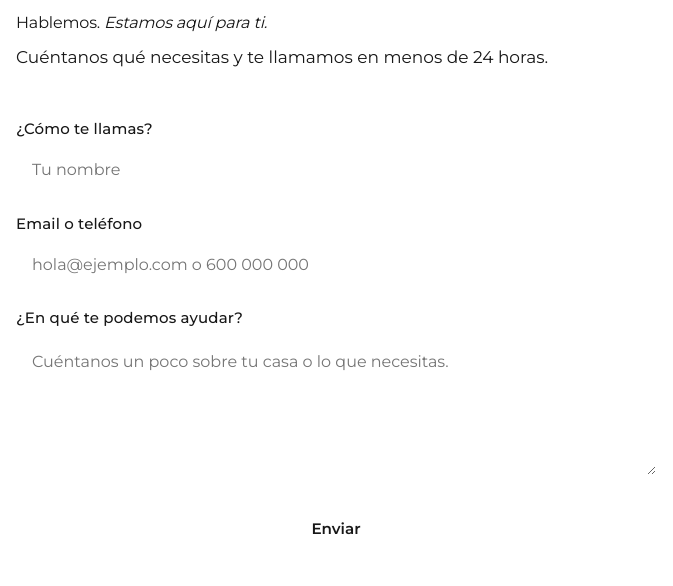
Test: V4 Contacto › rejects a contact value that is neither email nor phone
Type "Cliente" into the field labelled "¿Cómo te llamas?".
click(336, 170); type("Cliente")  # box [16,146,656,194]
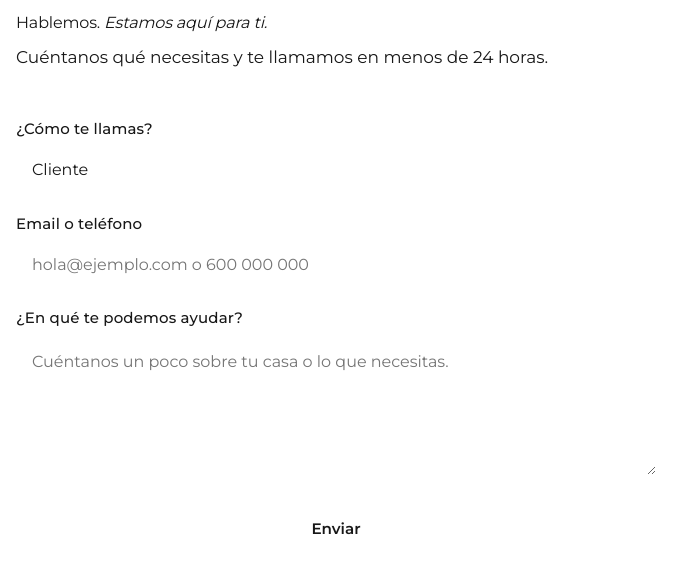
Type "abc" into the field labelled "Email o teléfono".
click(336, 264); type("abc")  # box [16,241,656,288]
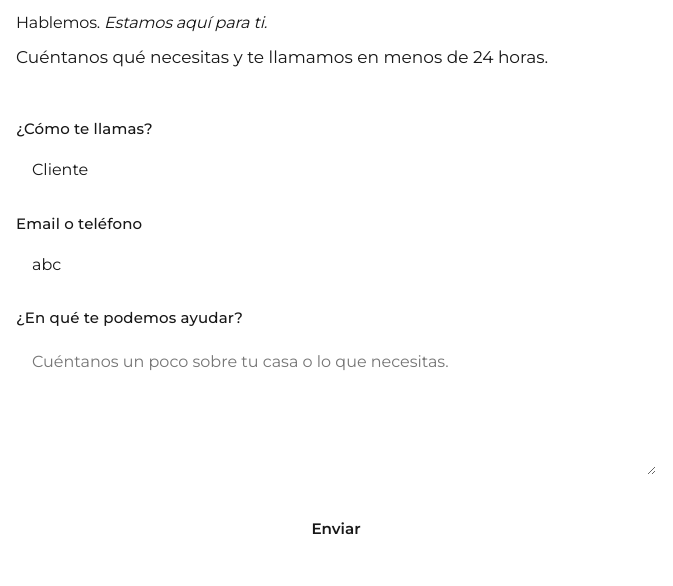
Type "Hola" into the text box labelled "¿En qué te podemos ayudar?".
click(336, 405); type("Hola")  # box [16,335,656,475]
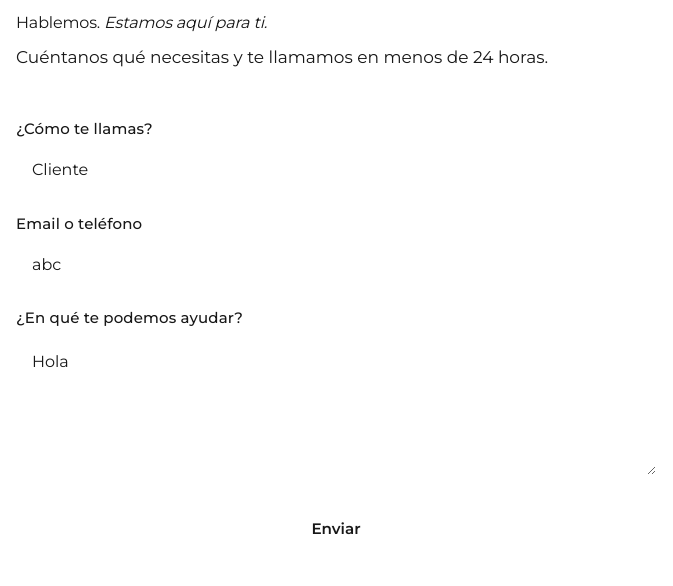
Click the submit button.
click(336, 528)  # box [16,503,656,553]
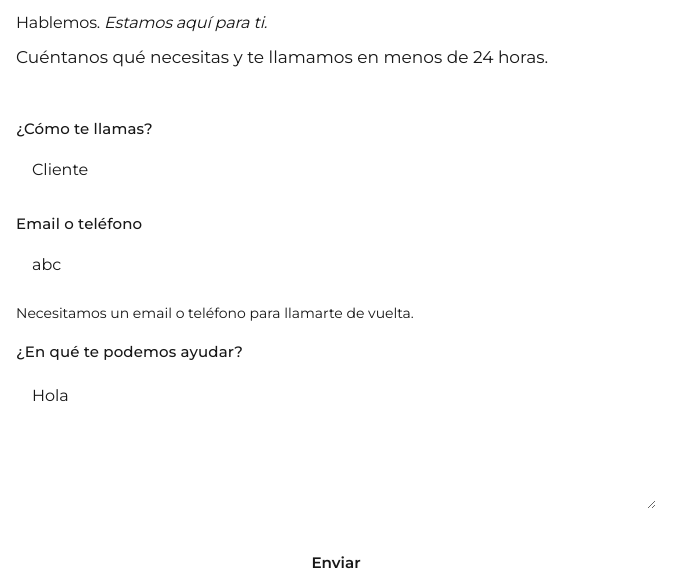
Expected: the message "Necesitamos un email o teléfono para llamarte de vuelta." is shown, [16,304,414,322]
